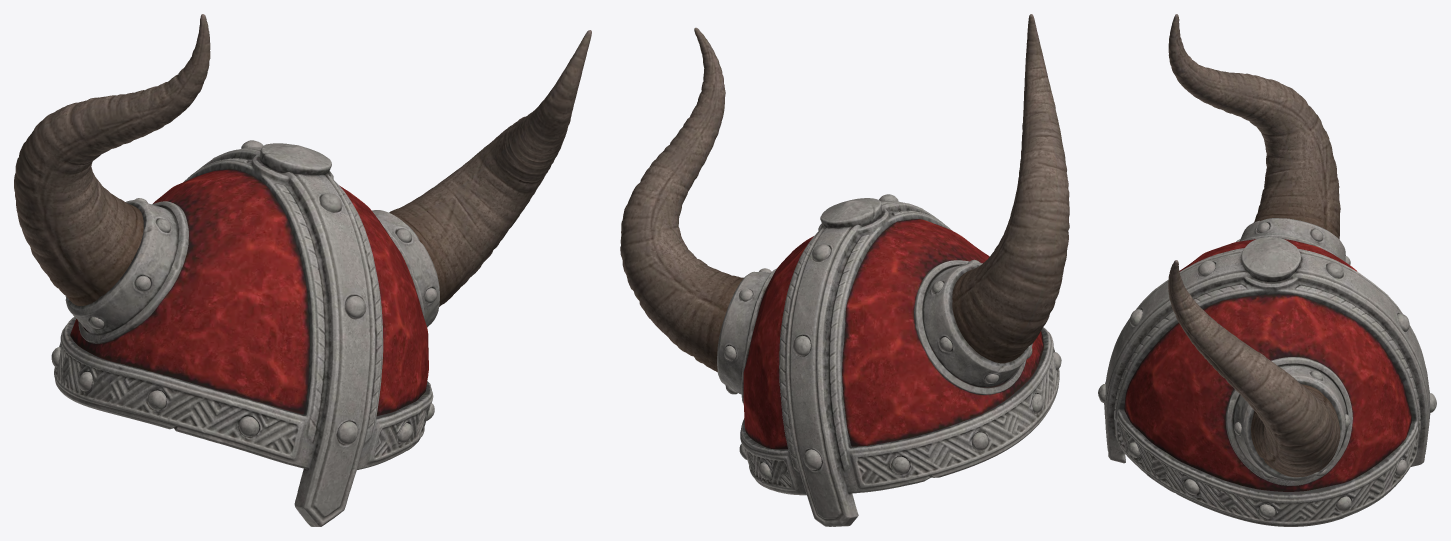
Rendered from helmet-transformed.glb.
3 renders of one model, left to right at view 1: azimuth 30°, elevation 25°; view 2: azimuth 150°, elevation 25°; view 3: azimuth 270°, elevation 25°, orthographic. The views are drawn at different scales.
Parts seen in each view (by area): view 1: hormbase_lp_Helmet material_0, horm_lp_Horn material_0; view 2: hormbase_lp_Helmet material_0, horm_lp_Horn material_0; view 3: hormbase_lp_Helmet material_0, horm_lp_Horn material_0.
Boxes of the visible parts, box(x1,y1,x2,y2) form: hormbase_lp_Helmet material_0: box(51, 140, 439, 526); horm_lp_Horn material_0: box(14, 14, 591, 306); hormbase_lp_Helmet material_0: box(717, 194, 1061, 526); horm_lp_Horn material_0: box(620, 14, 1069, 371); hormbase_lp_Helmet material_0: box(1098, 218, 1436, 526); horm_lp_Horn material_0: box(1168, 14, 1340, 477).
Bounding box in the file's own units: 2.8 × 2.64 × 1.94.
Materials: 2 (2 with a texture image).
